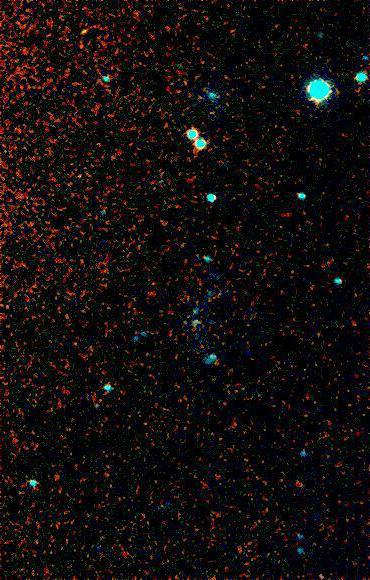star: (68, 16, 98, 46)
